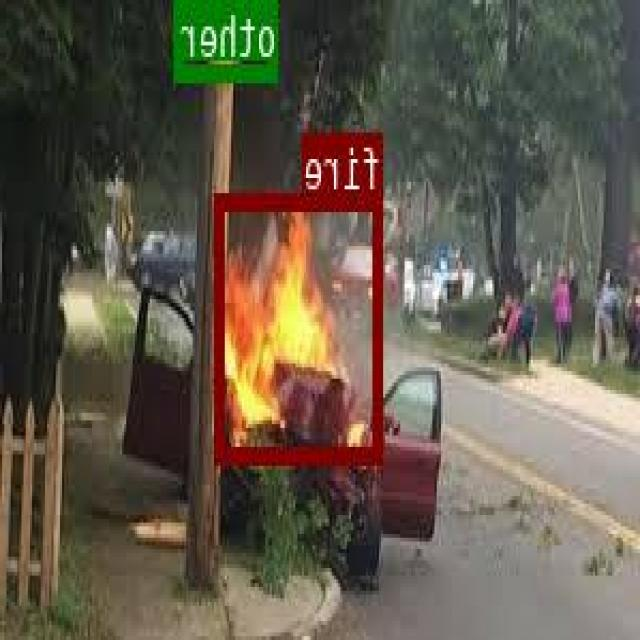fire: (218, 193, 384, 462)
other: (177, 0, 279, 76)
